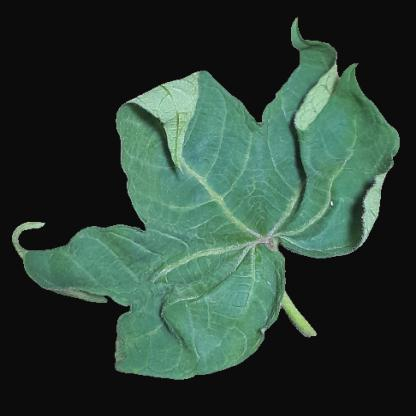curl_stage2: (147, 203, 266, 339), (211, 118, 295, 213), (132, 95, 228, 175), (259, 110, 380, 172), (322, 152, 378, 252), (39, 243, 144, 289)
